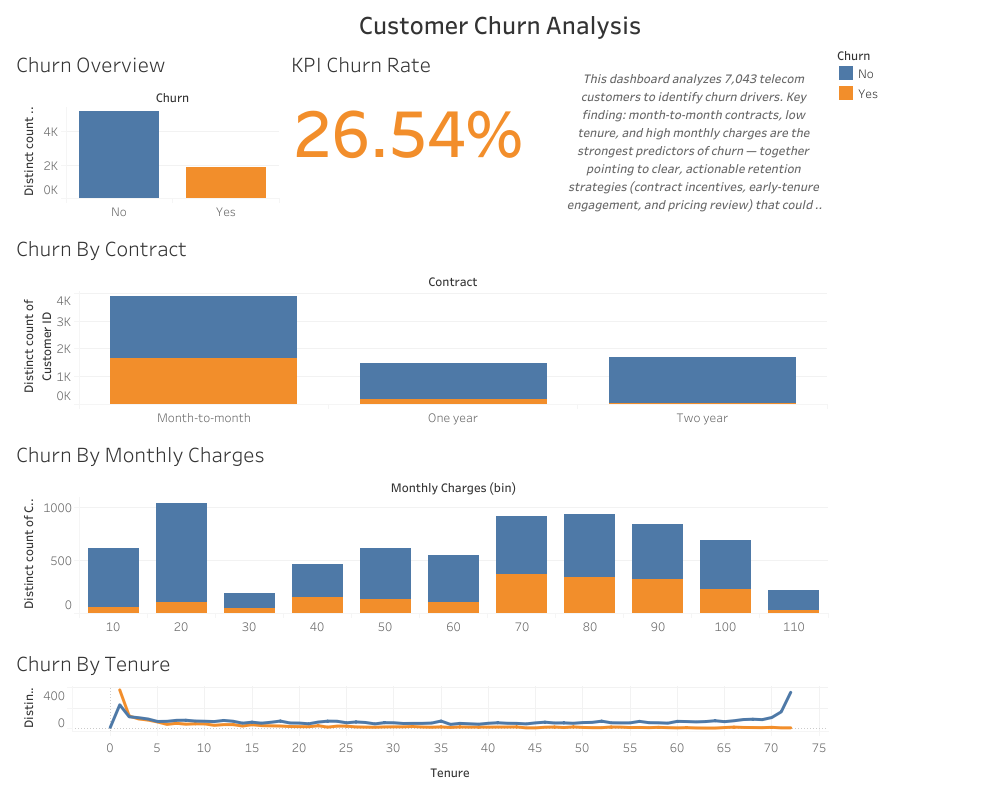

The dashboard page shown, as its layout file describes it:
{"tool":"tableau","page":{"name":"Customer Churn Analysis","canvas":[1000,800],"ordinal":0},"visuals":[{"type":"title","box":[8,8,984,32]},{"type":"worksheet","title":"Churn Overview","mark":"Automatic","rows":["customerID"],"cols":["Churn"],"box":[8,40,274.7,184.2]},{"type":"worksheet","title":"KPI Churn Rate","mark":"Automatic","box":[282.7,40,274.7,184.2]},{"type":"text","box":[557.3,40,274.7,184.2]},{"type":"legend","title":"Churn By Contract","param":"[federated.1xebmto04ucf2q1e3mrsn0tcjqlu].[none:Churn:nk]","box":[832,40,160,67]},{"type":"worksheet","title":"Churn By Contract","mark":"Automatic","rows":["customerID"],"cols":["Contract"],"box":[8,224.2,824,206.2]},{"type":"worksheet","title":"Churn By Monthly Charges","mark":"Automatic","rows":["customerID"],"cols":["Monthly Charges (bin)"],"box":[8,430.4,824,208.1]},{"type":"worksheet","title":"Churn By Tenure","mark":"Automatic","rows":["customerID"],"cols":["tenure"],"box":[8,638.5,824,153.5]}]}

Visuals, with their boxes in screenshot pixels (x1, y1, x2, y2), scaled from the page's 1000x800 canvas onto the 999x799 screenshot:
title: select_region(8, 8, 991, 40)
"Churn Overview" worksheet: select_region(8, 40, 282, 224)
"KPI Churn Rate" worksheet: select_region(282, 40, 557, 224)
text: select_region(557, 40, 831, 224)
"Churn By Contract" legend: select_region(831, 40, 991, 107)
"Churn By Contract" worksheet: select_region(8, 224, 831, 430)
"Churn By Monthly Charges" worksheet: select_region(8, 430, 831, 638)
"Churn By Tenure" worksheet: select_region(8, 638, 831, 791)
